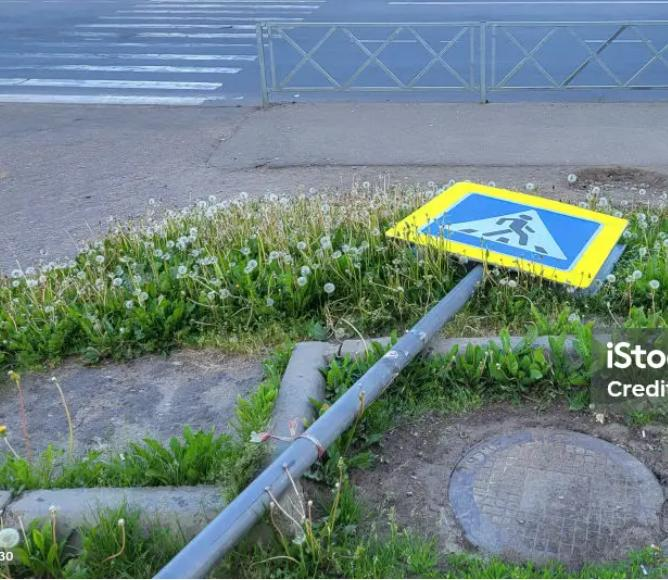obstructed_road_sign: (386, 182, 626, 288)
